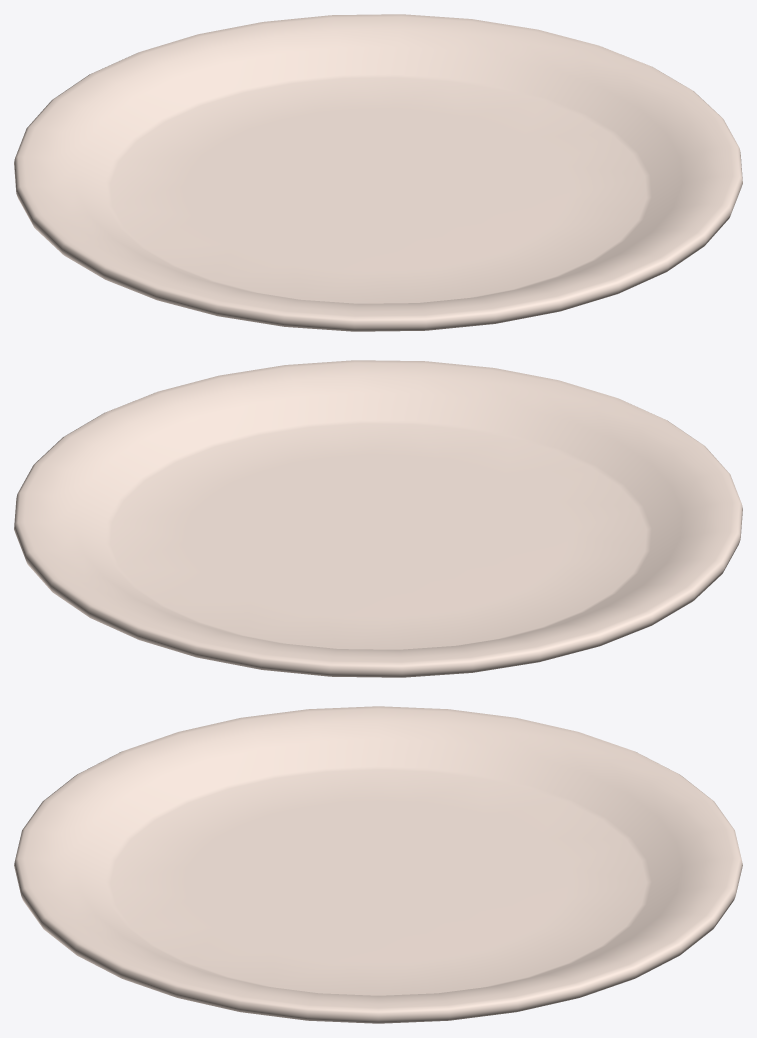
File: plate01.fbx
3 views of the same model, one above another, from view 1: azimuth 30°, elevation 25°; view 2: azimuth 150°, elevation 25°; view 3: azimuth 270°, elevation 25° (orthographic).
Parts seen in each view (by area): view 1: plate01; view 2: plate01; view 3: plate01.
Boxes of the visible parts, x1=… form: plate01: x1=14, y1=14, x2=742, y2=331; plate01: x1=14, y1=360, x2=742, y2=677; plate01: x1=14, y1=706, x2=742, y2=1023.
Size of the model in its own units: 34.09 by 2.37 by 34.09.
